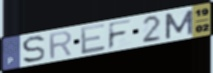2: (141, 15, 163, 45)
E: (79, 22, 107, 56)
F: (107, 18, 134, 51)
M: (163, 9, 195, 41)
R: (47, 30, 74, 61)
S: (21, 35, 47, 65)
